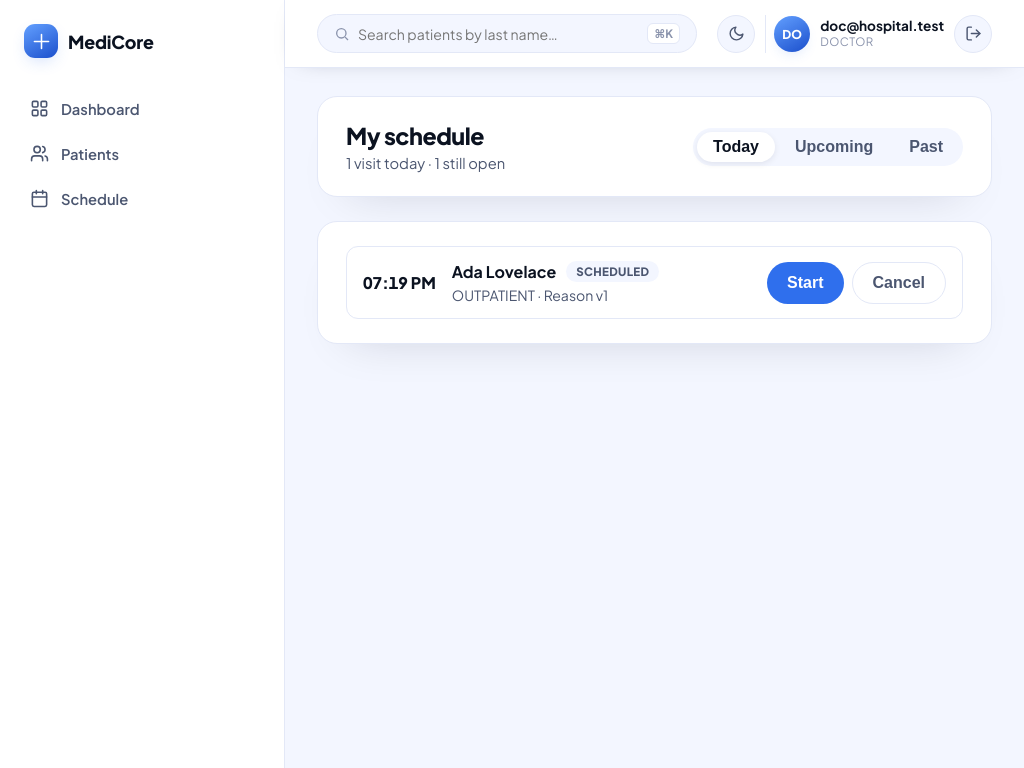
Test: SchedulePage › starts a scheduled visit and reflects the new status
Click the button "Start" at [805, 282], box [767, 262, 844, 304]
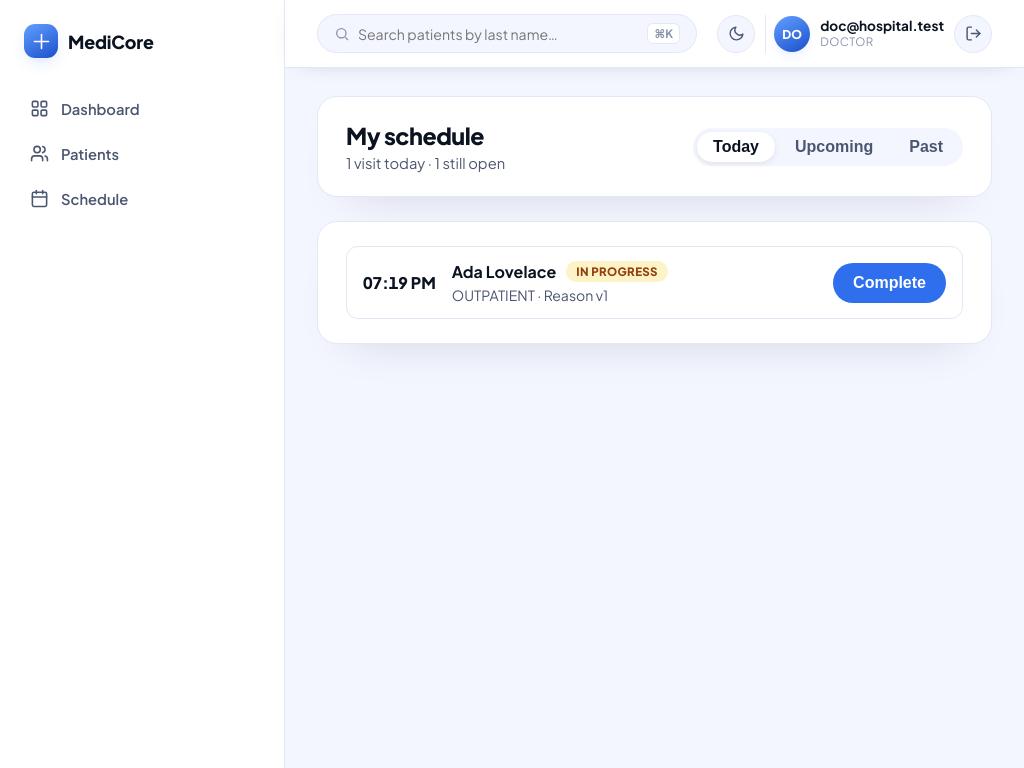
expect the button "Complete" is shown: met, box [833, 262, 946, 302]
